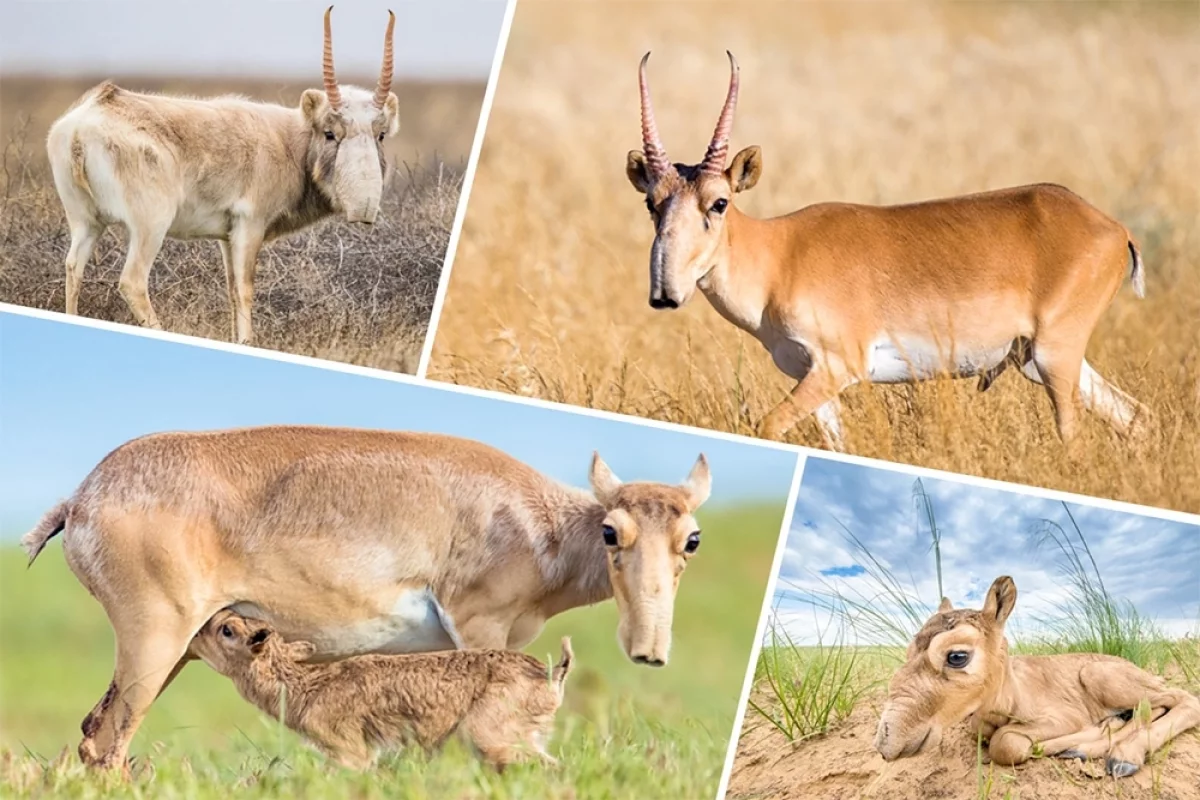saiga: (19, 429, 712, 780), (625, 40, 1154, 461), (42, 6, 418, 337), (182, 607, 572, 790), (867, 572, 1200, 780)
